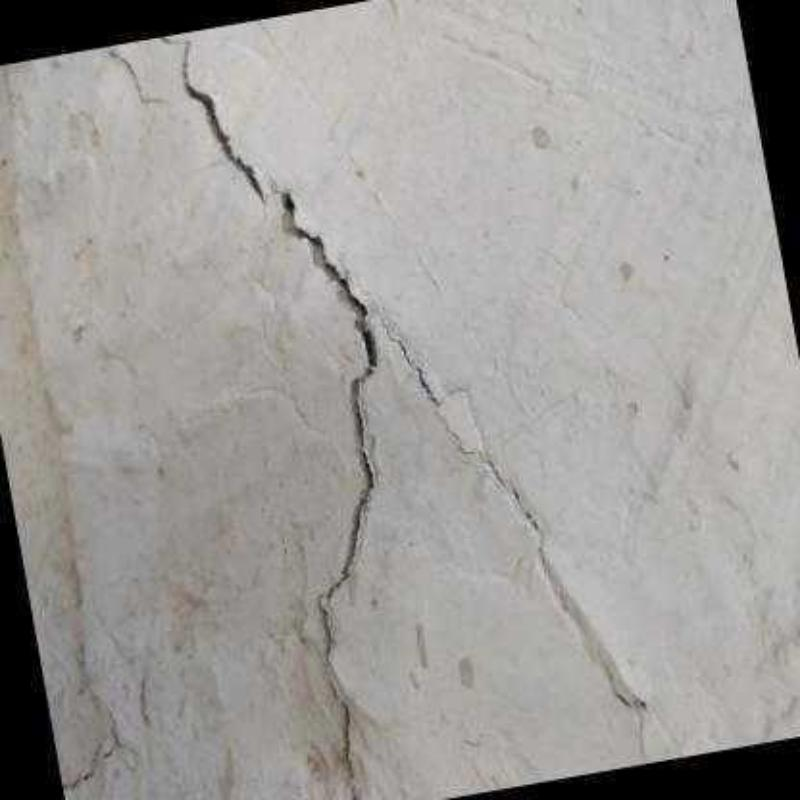pothole: (280, 194, 379, 798), (178, 45, 263, 195), (487, 460, 550, 579), (383, 327, 440, 408), (71, 713, 121, 787), (448, 431, 477, 454), (619, 692, 648, 708)
